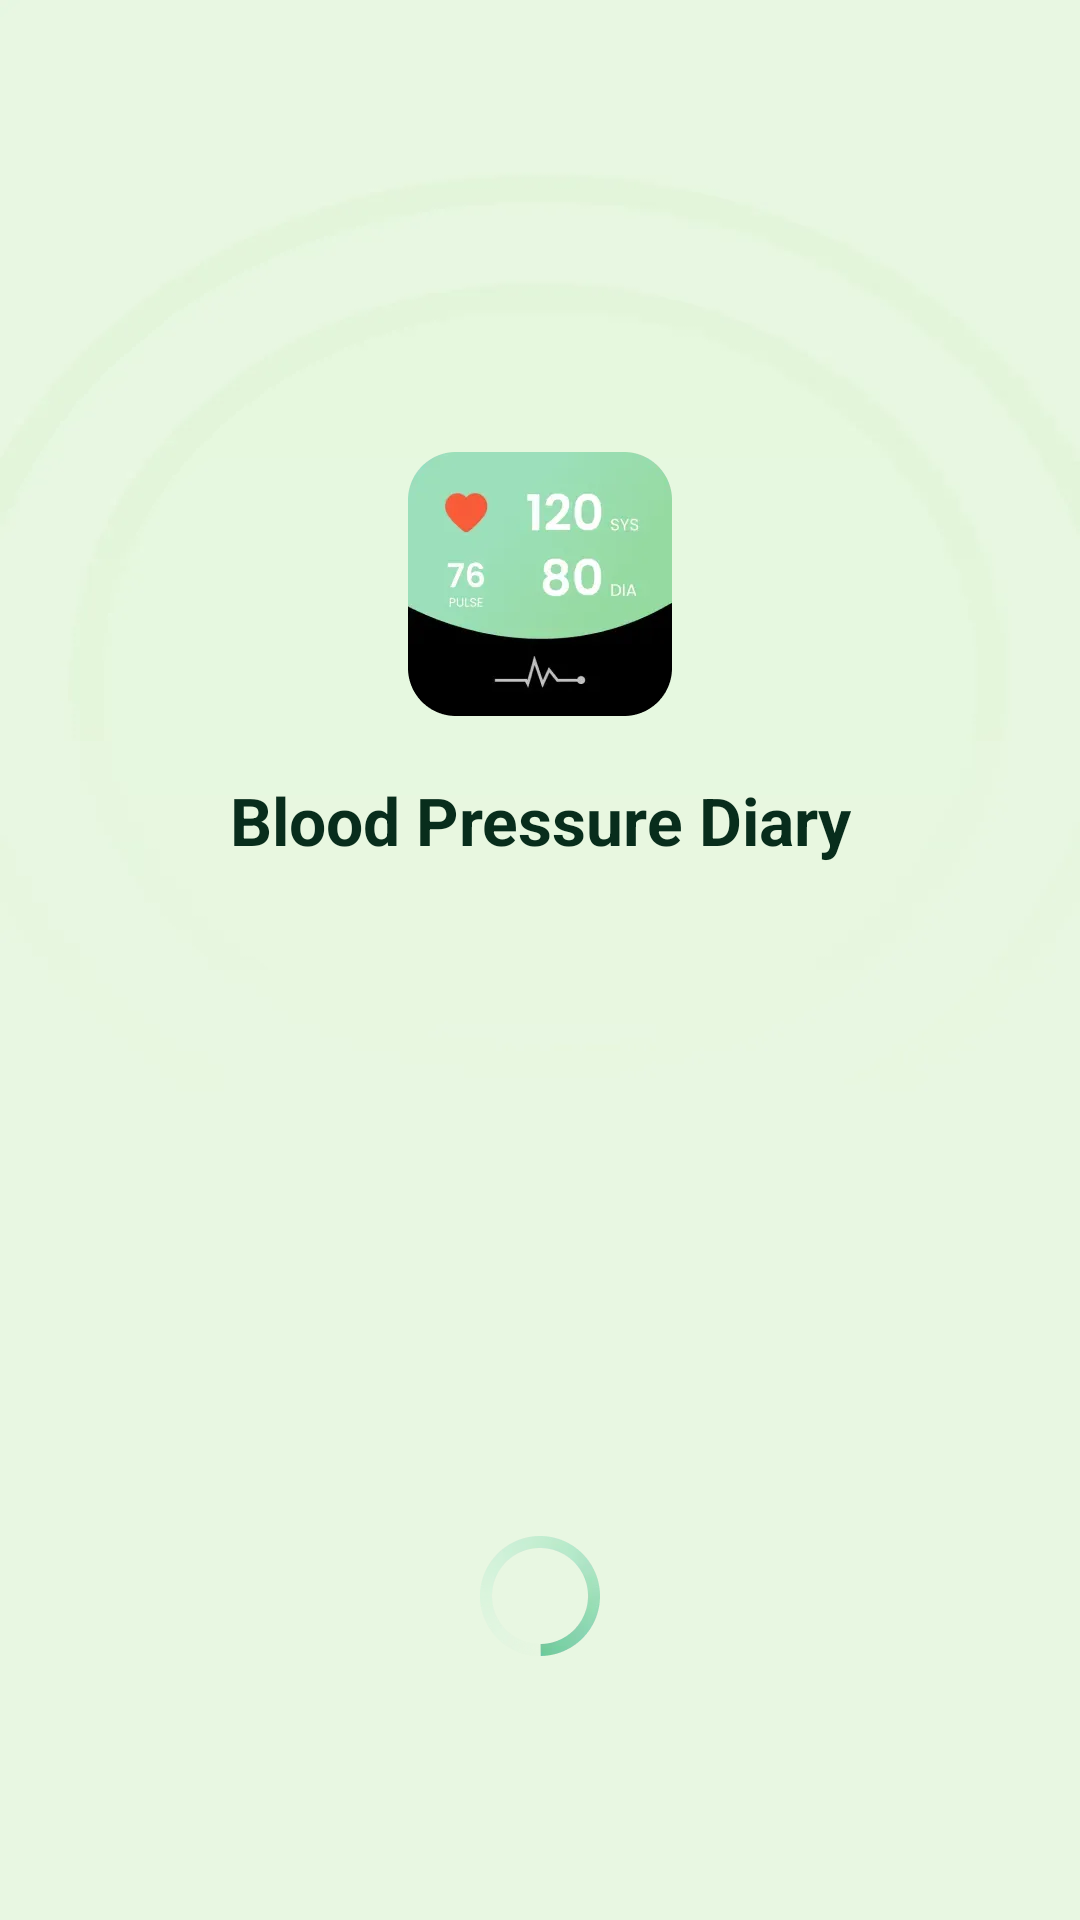

Icon bounding boxes for this 1080px×1920px phone screenshot, format (x1, y1, x2, y2):
loading: (502, 1536, 600, 1656)
